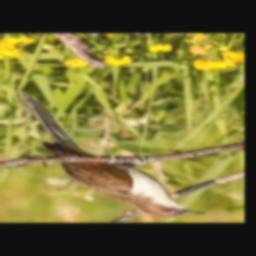Cuckoo: (16, 92, 206, 217)
